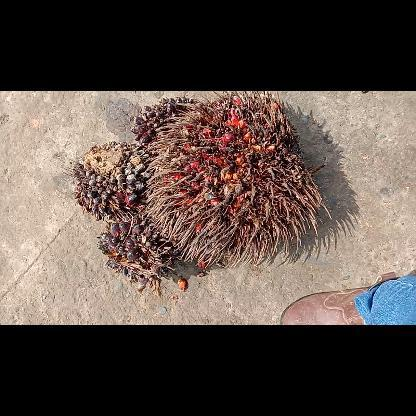TBS abnormal: (94, 214, 180, 296), (72, 139, 158, 219), (129, 95, 197, 145)
Terlalu masak: (140, 90, 334, 270)
